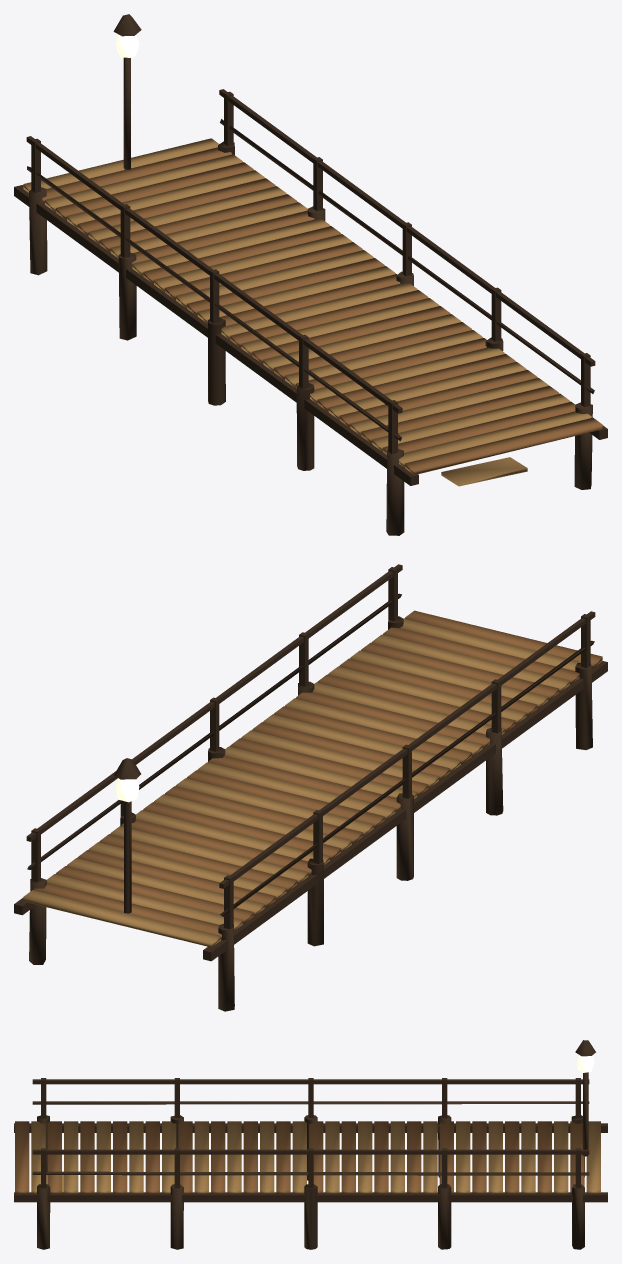
Rendered from lake_pier.glb.
The picture shows the model from 3 angles, top to bottom: view 1: azimuth 30°, elevation 25°; view 2: azimuth 150°, elevation 25°; view 3: azimuth 270°, elevation 25°; orthographic projection. The views are drawn at different scales.
Parts seen in each view (by area): view 1: lake_pier; view 2: lake_pier; view 3: lake_pier.
Part boxes in pixels (x1=…): lake_pier: x1=14, y1=14, x2=607, y2=535; lake_pier: x1=14, y1=564, x2=607, y2=1011; lake_pier: x1=14, y1=1040, x2=607, y2=1249.
Bounding box in the file's own units: 2.38 × 2.56 × 8.
